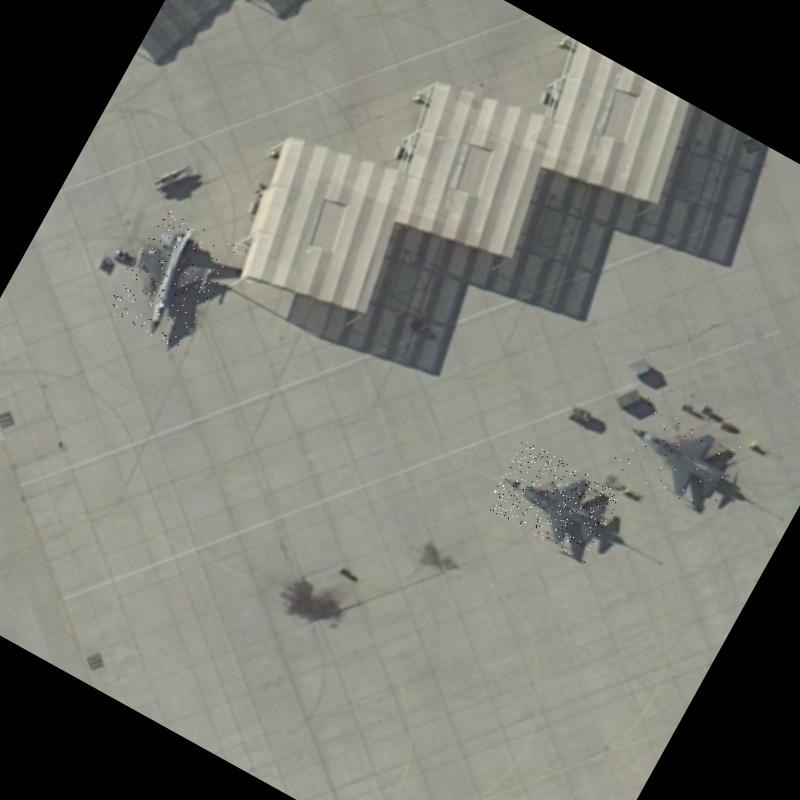A5: (103, 204, 238, 351), (608, 392, 746, 518), (485, 438, 622, 562)
